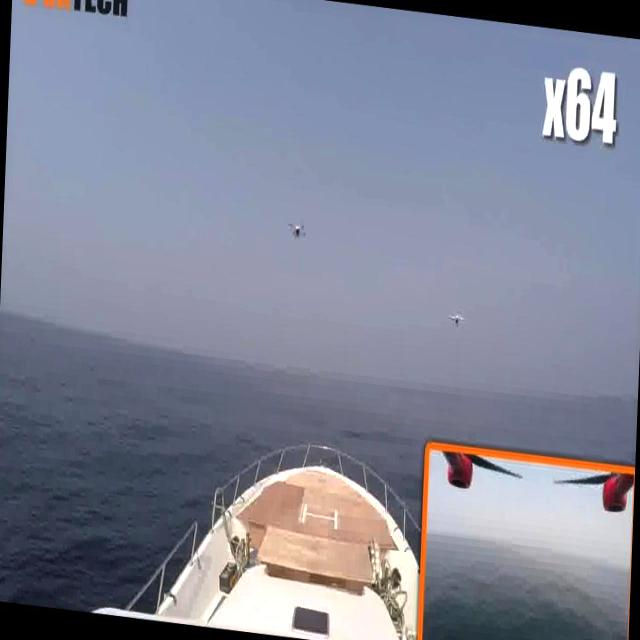drone: (443, 302, 467, 333), (287, 215, 311, 245)
